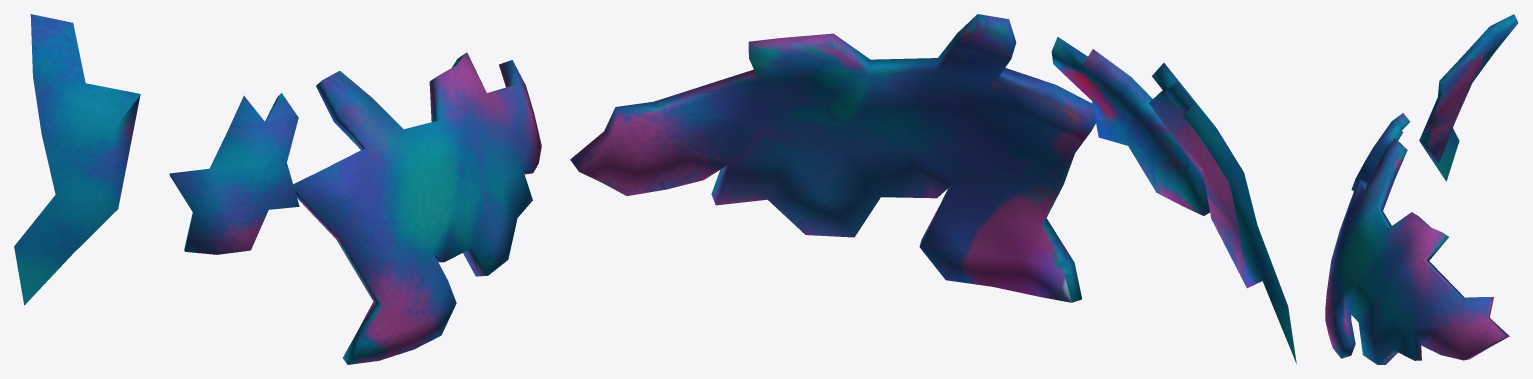
Rendered from cascaron.obj.
3 views of the same model, side by side, from view 1: azimuth 30°, elevation 25°; view 2: azimuth 150°, elevation 25°; view 3: azimuth 270°, elevation 25° (orthographic). The views are drawn at different scales.
Parts seen in each view (by area): view 1: tripo_part_1, tripo_part_3, tripo_part_0; view 2: tripo_part_1, tripo_part_3, tripo_part_0; view 3: tripo_part_1, tripo_part_3, tripo_part_0.
Part boxes in pixels (<box>): tripo_part_1: <box>293,52,541,364</box>; tripo_part_3: <box>14,14,140,305</box>; tripo_part_0: <box>169,93,299,254</box>; tripo_part_1: <box>570,14,1095,302</box>; tripo_part_3: <box>1149,63,1296,363</box>; tripo_part_0: <box>1051,37,1209,215</box>; tripo_part_1: <box>1325,138,1509,364</box>; tripo_part_3: <box>1419,14,1518,181</box>; tripo_part_0: <box>1351,113,1410,191</box>.
Bounding box in the file's own units: 0.5695 × 0.3133 × 0.2319.
Materials: 1 (1 with a texture image).
